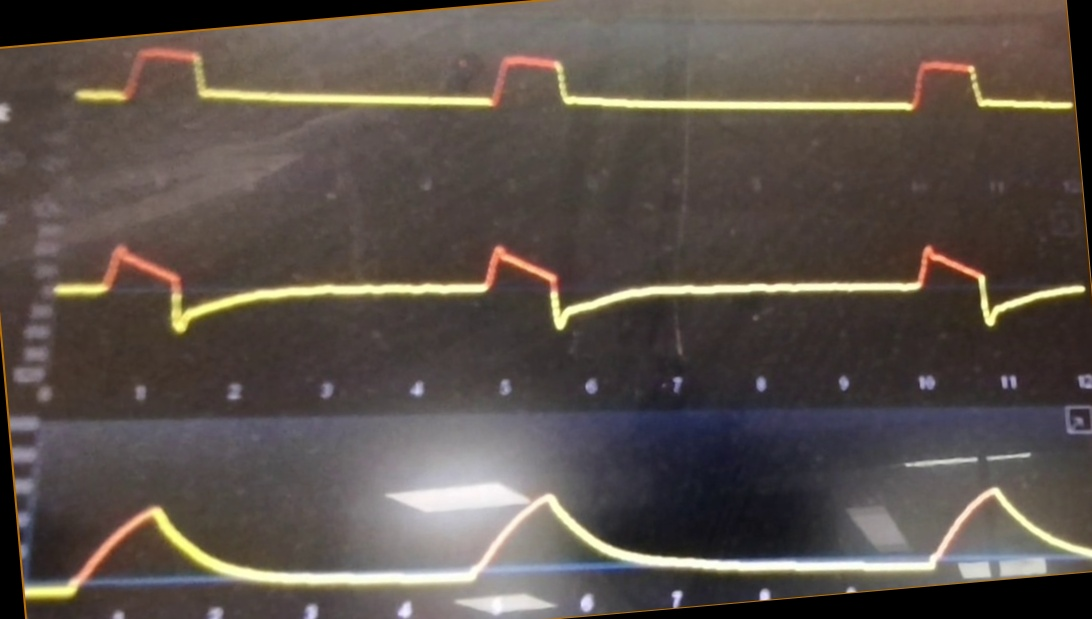Normal Flow: (54, 216, 1078, 354)
Normal Volume: (28, 445, 1092, 604)
